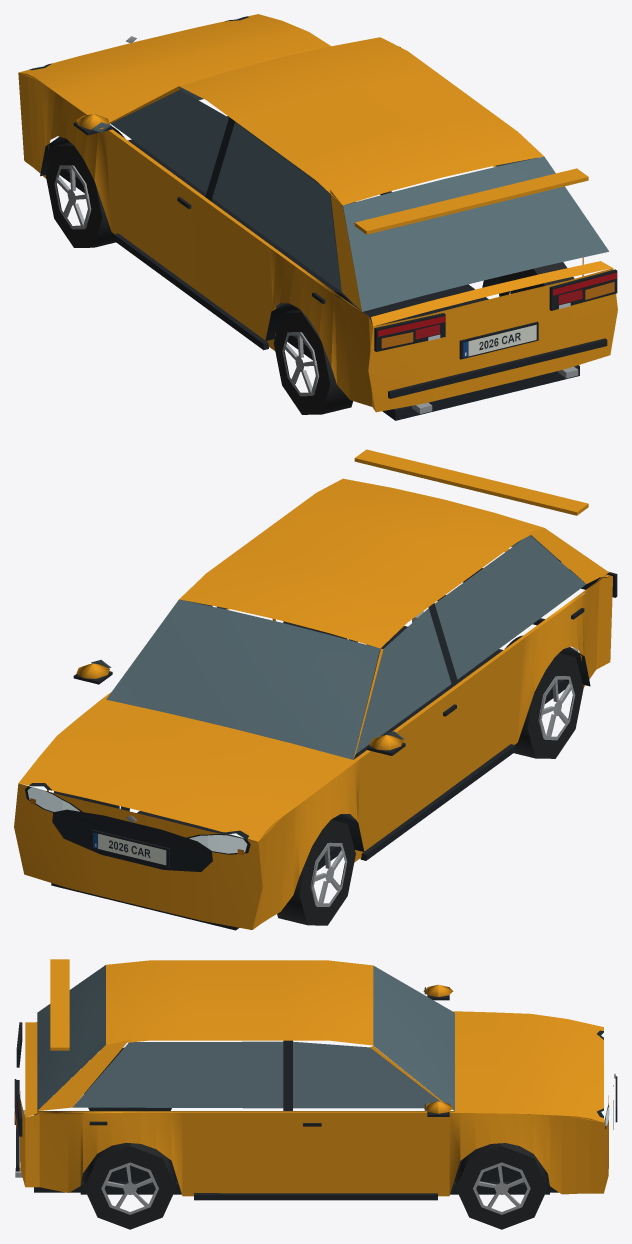
The model's file is Entrega_12_LOD2.glb.
The picture shows the model from 3 angles, top to bottom: view 1: azimuth 30°, elevation 25°; view 2: azimuth 150°, elevation 25°; view 3: azimuth 270°, elevation 25°; orthographic projection. The views are drawn at different scales.
Parts seen in each view (by area): view 1: Body, Glass, Wheel_RL, Wheel_FL, Plates, TailLights, Wheel_RR; view 2: Body, Glass, Wheel_FL, Wheel_RL, Headlights, Plates; view 3: Body, Glass, Wheel_RR, Wheel_FR, Wheel_RL.
Part boxes in pixels (x1,y1,x2,y2): Body: (18,14,617,420); Glass: (91,86,608,311); Wheel_RL: (273,308,352,414); Wheel_FL: (46,142,115,247); Plates: (463,324,536,357); TailLights: (378,272,616,336); Wheel_RR: (499,262,574,296); Body: (14,449,617,930); Glass: (91,535,586,759); Wheel_FL: (277,819,355,925); Wheel_RL: (514,653,583,758); Headlights: (27,786,247,853); Plates: (93,832,166,865); Body: (14,959,617,1200); Glass: (37,965,454,1111); Wheel_RR: (84,1142,176,1229); Wheel_FR: (455,1143,547,1229); Wheel_RL: (84,1047,171,1110).
Bounding box in the file's own units: 2.2 × 1.46 × 4.39.
10 materials, 1 textured.
